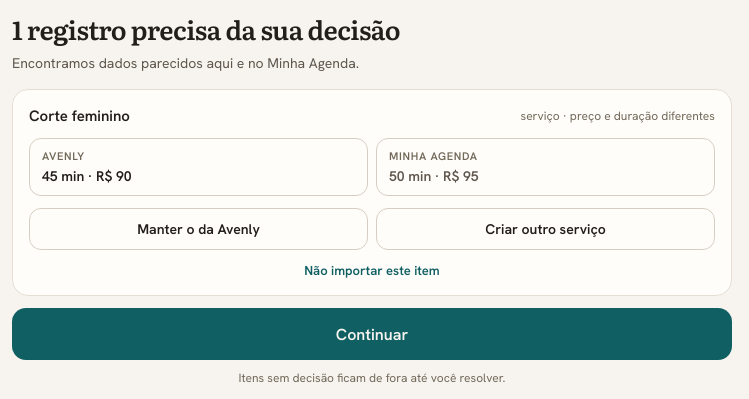
Scenario: o serviço com cadastro sugerido › 'Manter o da Avenly' envia KEEP_EXISTING com o candidato, e a peça da Avenly ganha o estilo depois
What coordinates should you click on to do the following:
click the button "Manter o da Avenly"
I would click on:
 (198, 229)
Its box is [29,208,368,250].
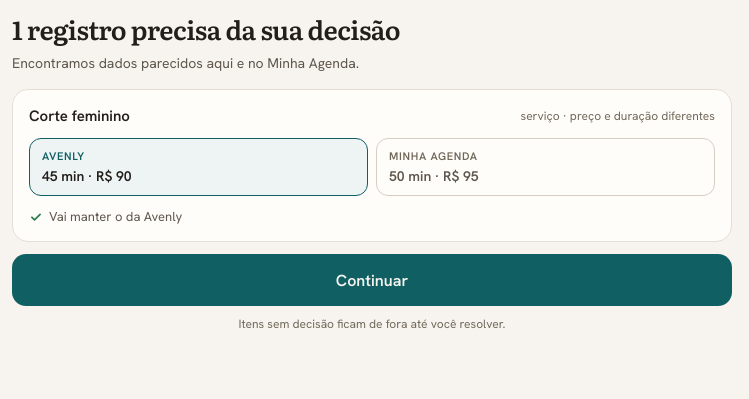
Check: the number of elements with class "is-selected" is 1, box [29,138,368,196]
Check: the text "Vai manter o da Avenly" is shown, box [29,208,182,225]
